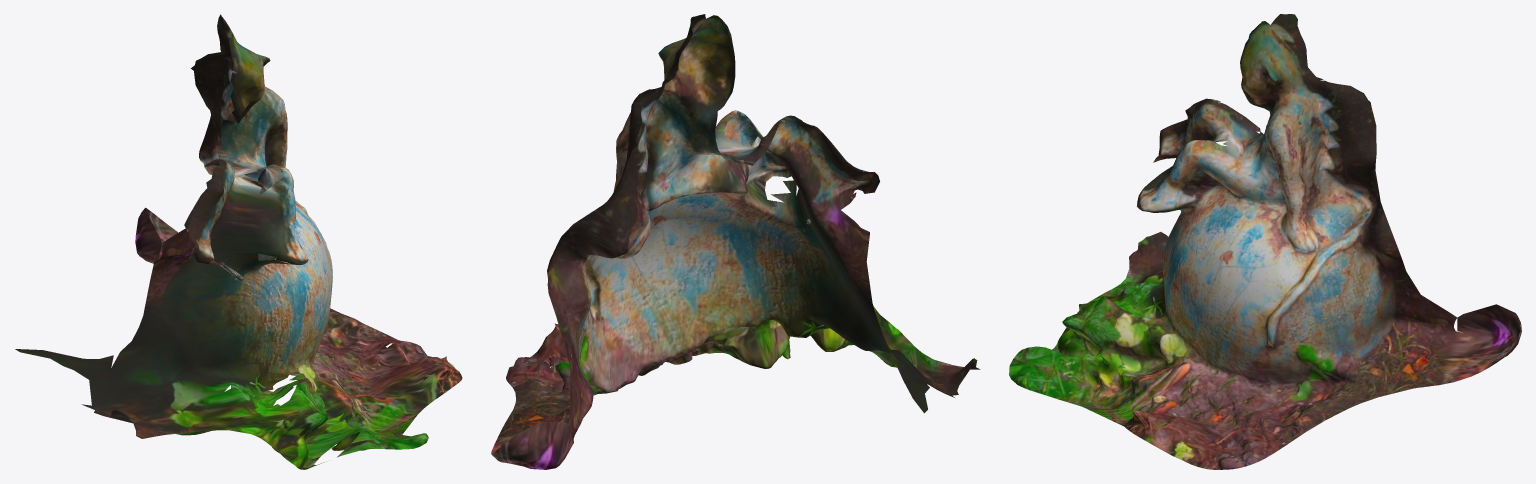
File: aardBolMan.glb
3 renders of one model, left to right at view 1: azimuth 30°, elevation 25°; view 2: azimuth 150°, elevation 25°; view 3: azimuth 270°, elevation 25°, orthographic. The views are drawn at different scales.
Parts seen in each view (by area): view 1: aardbolman; view 2: aardbolman; view 3: aardbolman.
Boxes of the visible parts, bbox=[...] form: aardbolman: bbox=[15, 14, 462, 469]; aardbolman: bbox=[491, 14, 980, 469]; aardbolman: bbox=[1009, 14, 1521, 469].
Bounding box in the file's own units: 22.62 × 20.75 × 26.13.
Materials: 2 (2 with a texture image).
